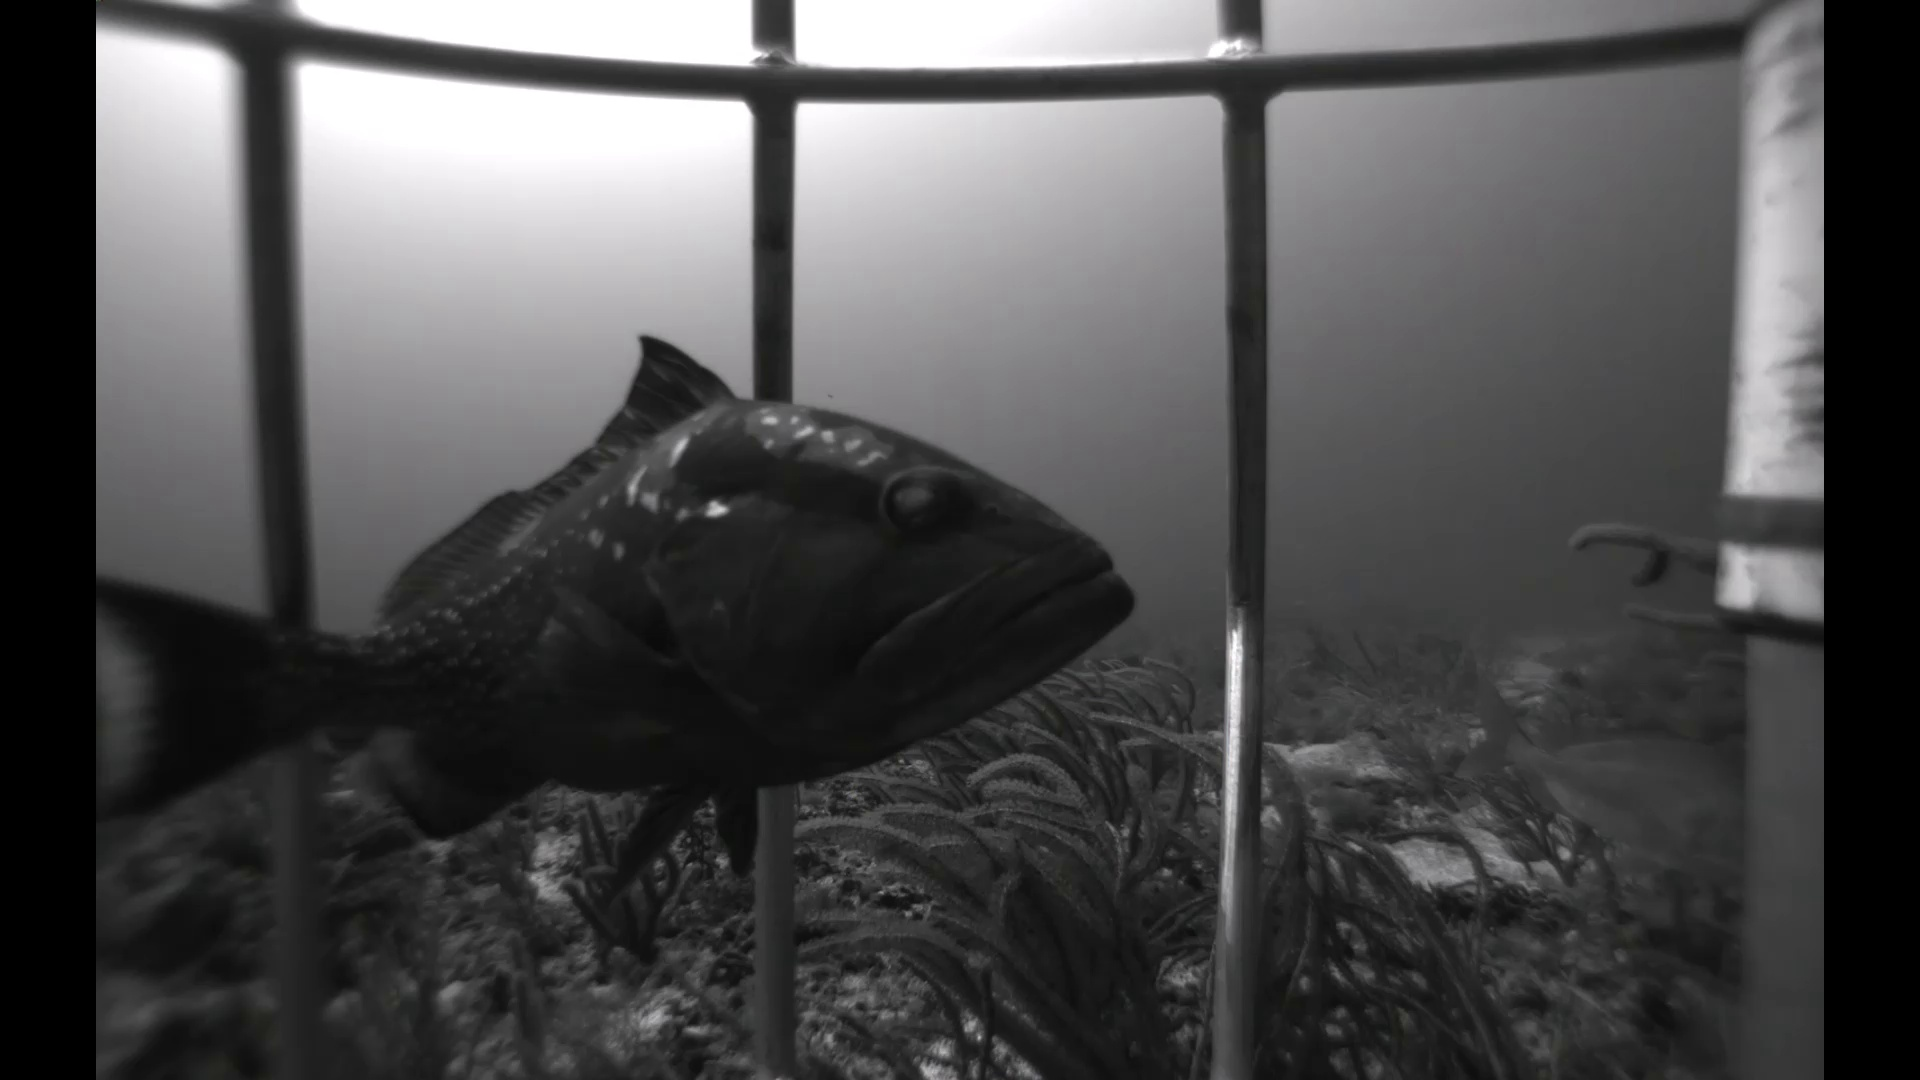CALAMUSNODOSUS-170210608: (1428, 675, 1756, 907), (306, 744, 406, 835)
EPINEPHELUSMORIO-170021211: (102, 330, 1127, 913), (309, 702, 376, 781)
